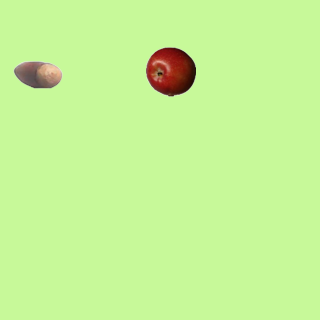Apple Braeburn: (145, 46, 195, 96)
Hazelnut: (12, 49, 62, 99)
